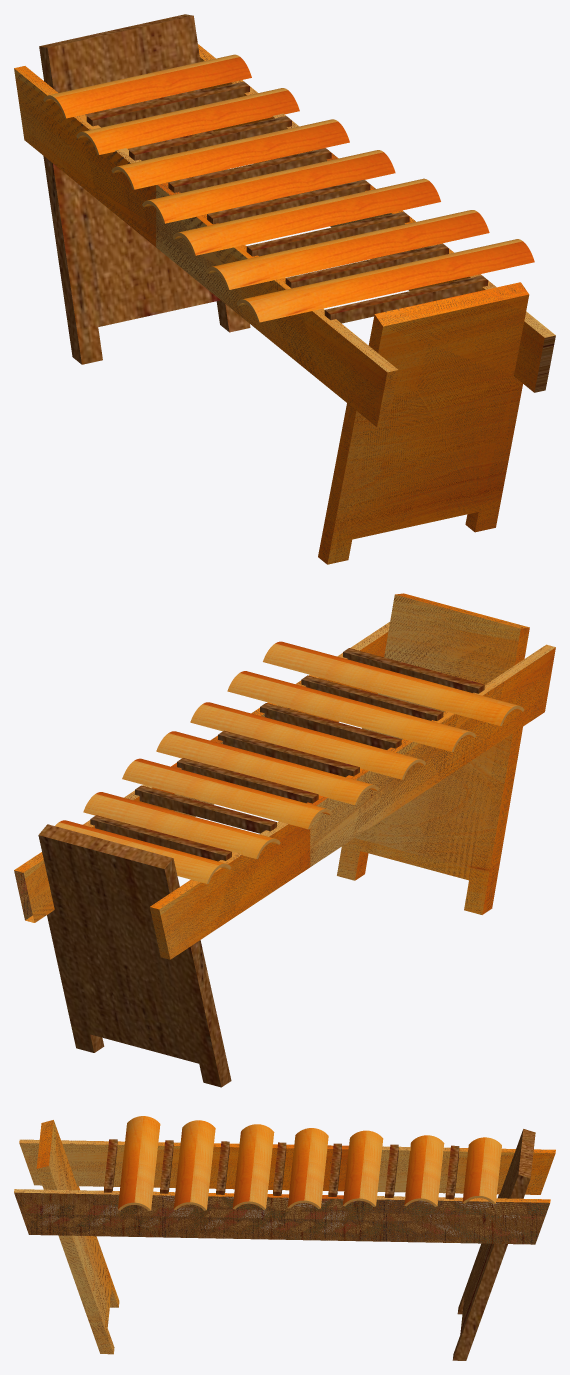
Rendered from kolintang.fbx.
The picture shows the model from 3 angles, top to bottom: view 1: azimuth 30°, elevation 25°; view 2: azimuth 150°, elevation 25°; view 3: azimuth 270°, elevation 25°; orthographic projection. The views are drawn at different scales.
Visible parts, largest first — view 1: group_51, group_66, group_52, group_65, group_62, group_61, group_57, group_58, group_53, group_56, group_59, group_63 (+4 smaller); view 2: group_51, group_66, group_52, group_65, group_62, group_61, group_57, group_58, group_63, group_53, group_54, group_64 (+4 smaller); view 3: group_51.004, group_51, group_66, group_52, group_65, group_62, group_61, group_57, group_58, group_53, group_54, group_56 (+5 smaller).
Part boxes in pixels (x1,y1,x2,y2): group_51: (14, 44, 555, 564); group_66: (39, 14, 250, 364); group_52: (236, 239, 534, 322); group_65: (206, 210, 489, 289); group_62: (173, 178, 440, 255); group_61: (142, 150, 395, 223); group_57: (111, 119, 349, 189); group_58: (76, 88, 299, 154); group_53: (43, 54, 251, 118); group_56: (324, 275, 487, 323); group_59: (86, 81, 249, 127); group_63: (129, 116, 291, 160); group_51: (14, 593, 555, 959); group_66: (38, 824, 231, 1087); group_52: (263, 641, 524, 725); group_65: (227, 671, 476, 751); group_62: (190, 702, 426, 779); group_61: (156, 731, 379, 805); group_57: (122, 758, 332, 829); group_58: (83, 792, 280, 858); group_63: (135, 785, 276, 833); group_53: (55, 820, 231, 883); group_54: (260, 703, 401, 749); group_64: (218, 730, 359, 777); group_51.004: (14, 1192, 549, 1244); group_51: (14, 1120, 555, 1354); group_66: (452, 1129, 535, 1360); group_52: (118, 1116, 160, 1210); group_65: (173, 1120, 215, 1210); group_62: (232, 1124, 274, 1209); group_61: (287, 1128, 328, 1208); group_57: (342, 1130, 383, 1206); group_58: (404, 1135, 444, 1206); group_53: (462, 1137, 501, 1204); group_54: (216, 1141, 229, 1194); group_56: (104, 1139, 117, 1192).
Size of the model in its own units: 1462 by 1435 by 3835.
Materials: 4 (4 with a texture image).
